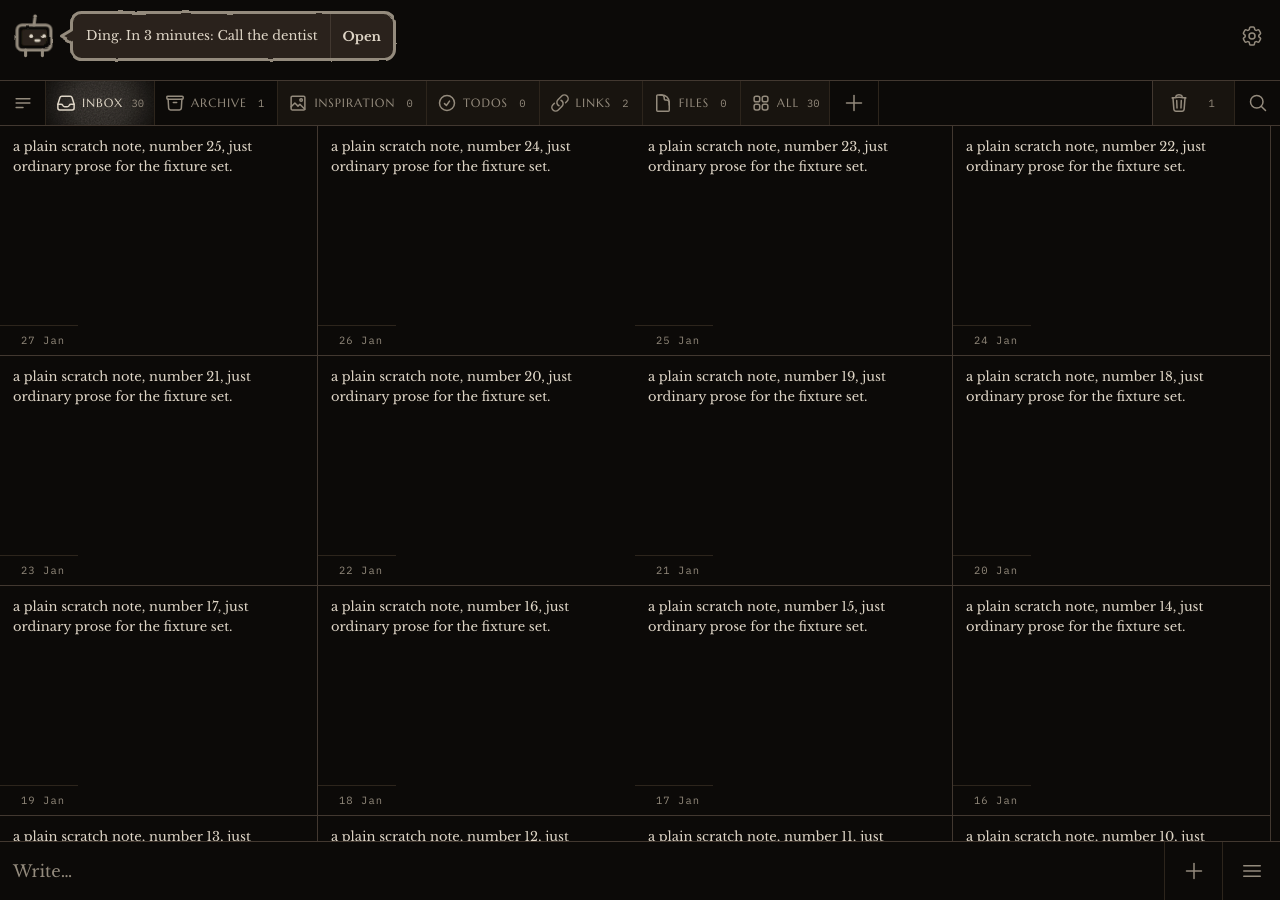
Test: the header's creature, speaking › speaks up just before a reminder rings, and Open opens the note
Check: the button with aria-label "a plain scratch note, number 25, just ordinary prose for the" is shown, box [0,126,318,356]
Check: the element with class "speech" shows "Ding. In 3 minutes: Call the dentist", box [86,26,318,44]
What coordinates should you click on to do the following:
click the button "Open"
I would click on:
 (361, 36)
Its box is [330,14,393,58].
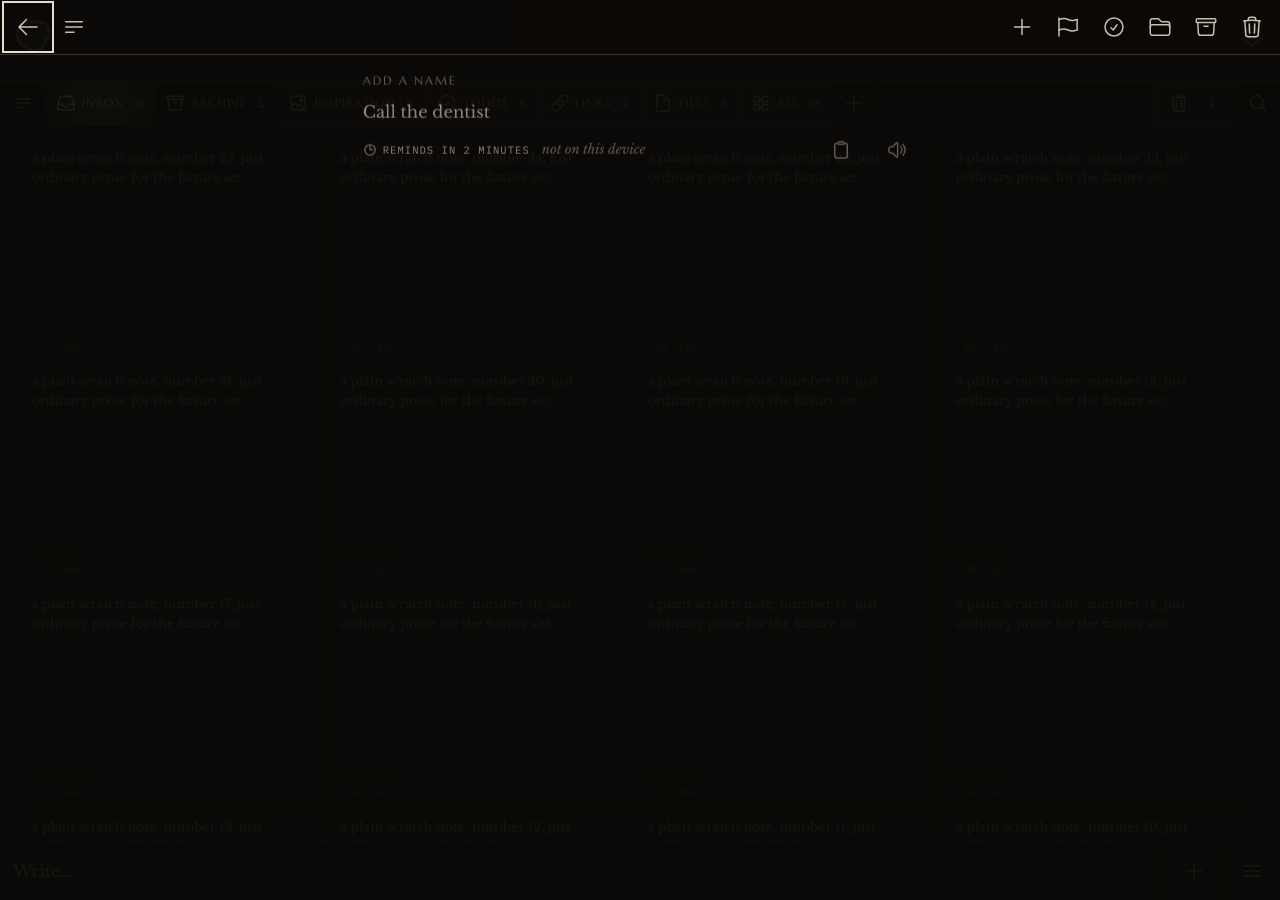
Check: the dialog with class "sheet" shows "Call the dentist", box [363,100,490,120]
